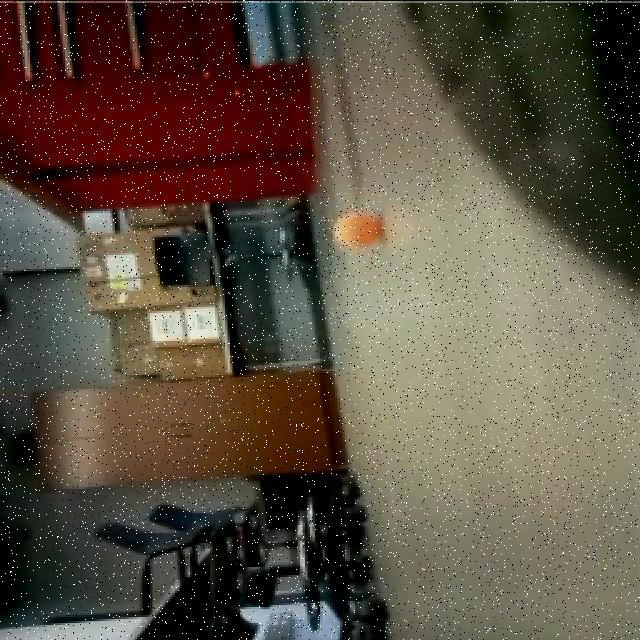ping-pong-ball: (323, 204, 393, 256)
